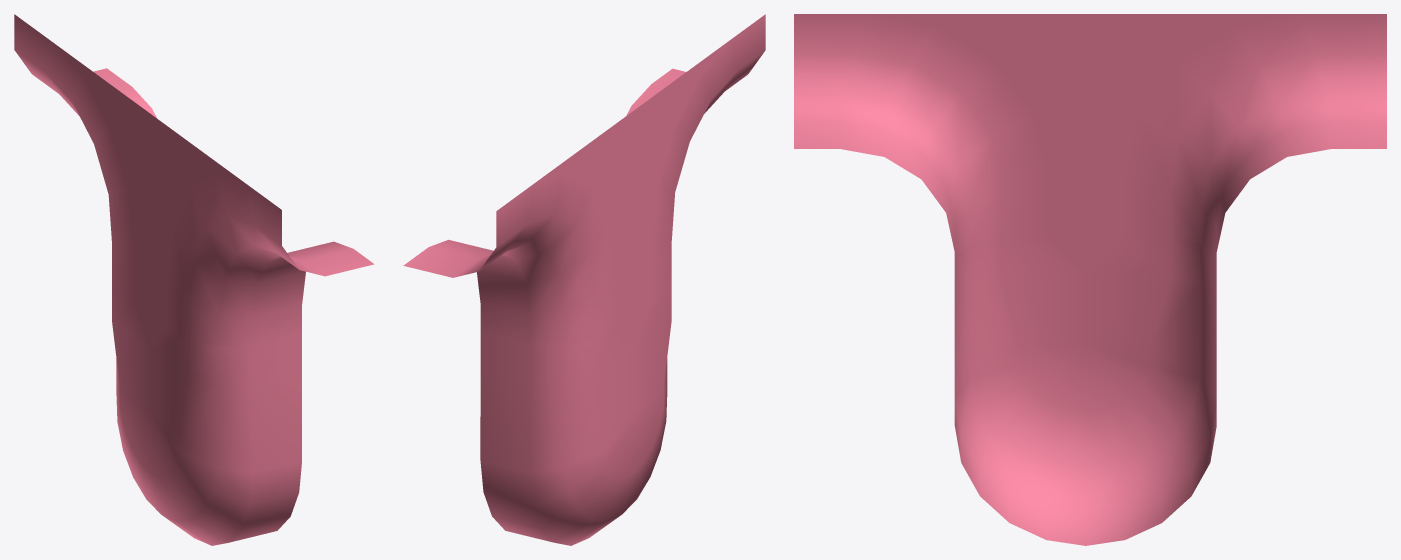
Rendered from SM_M_drop_1.fbx.
3 renders of one model, left to right at view 1: azimuth 30°, elevation 25°; view 2: azimuth 150°, elevation 25°; view 3: azimuth 270°, elevation 25°, orthographic. The views are drawn at different scales.
Visible parts, largest first — view 1: SM_M_drop_1; view 2: SM_M_drop_1; view 3: SM_M_drop_1.
Part boxes in pixels (x1,y1,x2,y2): SM_M_drop_1: [14, 14, 374, 545]; SM_M_drop_1: [403, 14, 765, 545]; SM_M_drop_1: [794, 14, 1386, 545].
Size of the model in its own units: 164 by 737 by 822.
Materials: 1 (1 with a texture image).
